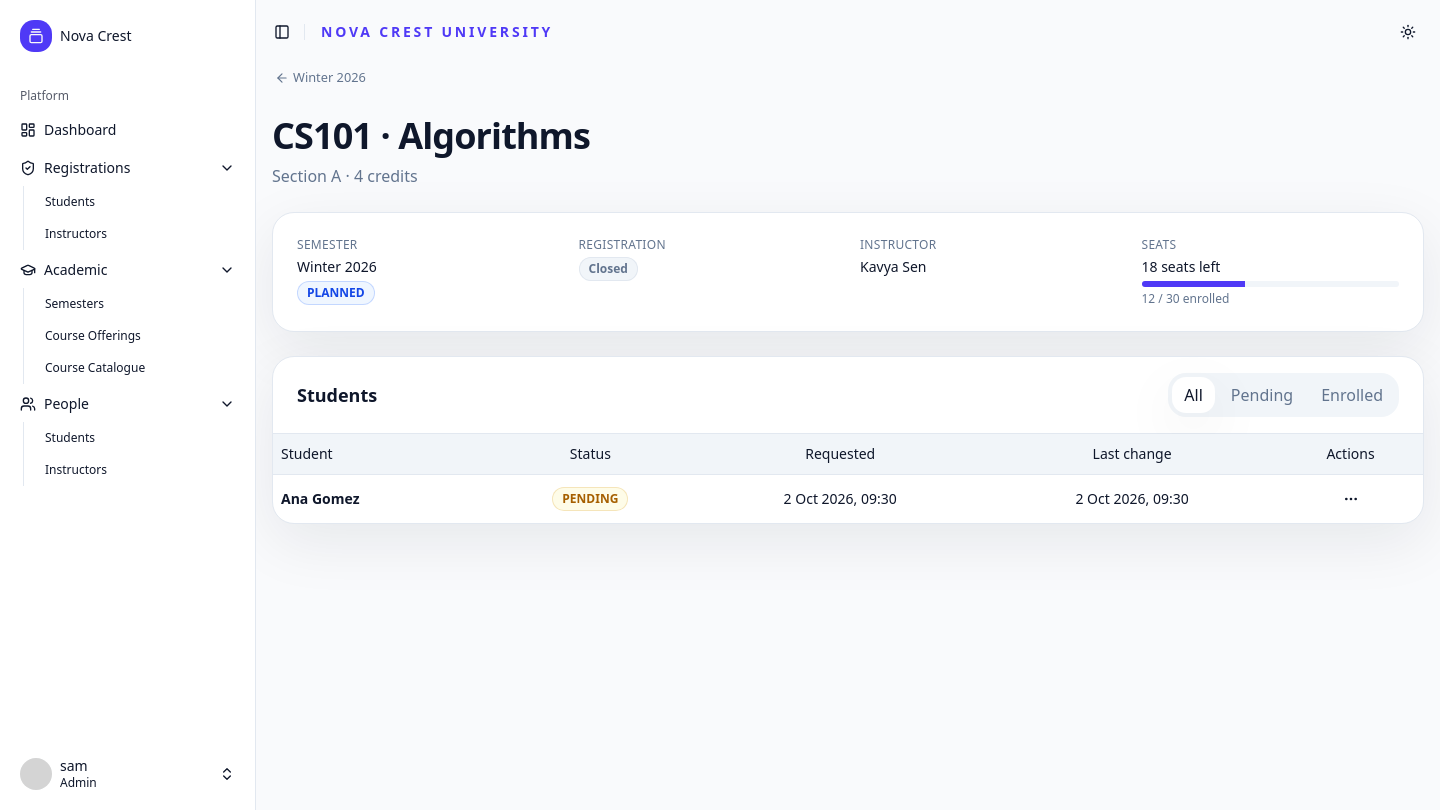
Test: OfferingDetail › asks before rejecting
Click the button named "Actions for Ana Gomez" in the row of "Ana Gomez" at {"x": 1350, "y": 498}, box [1334,482,1366,514]
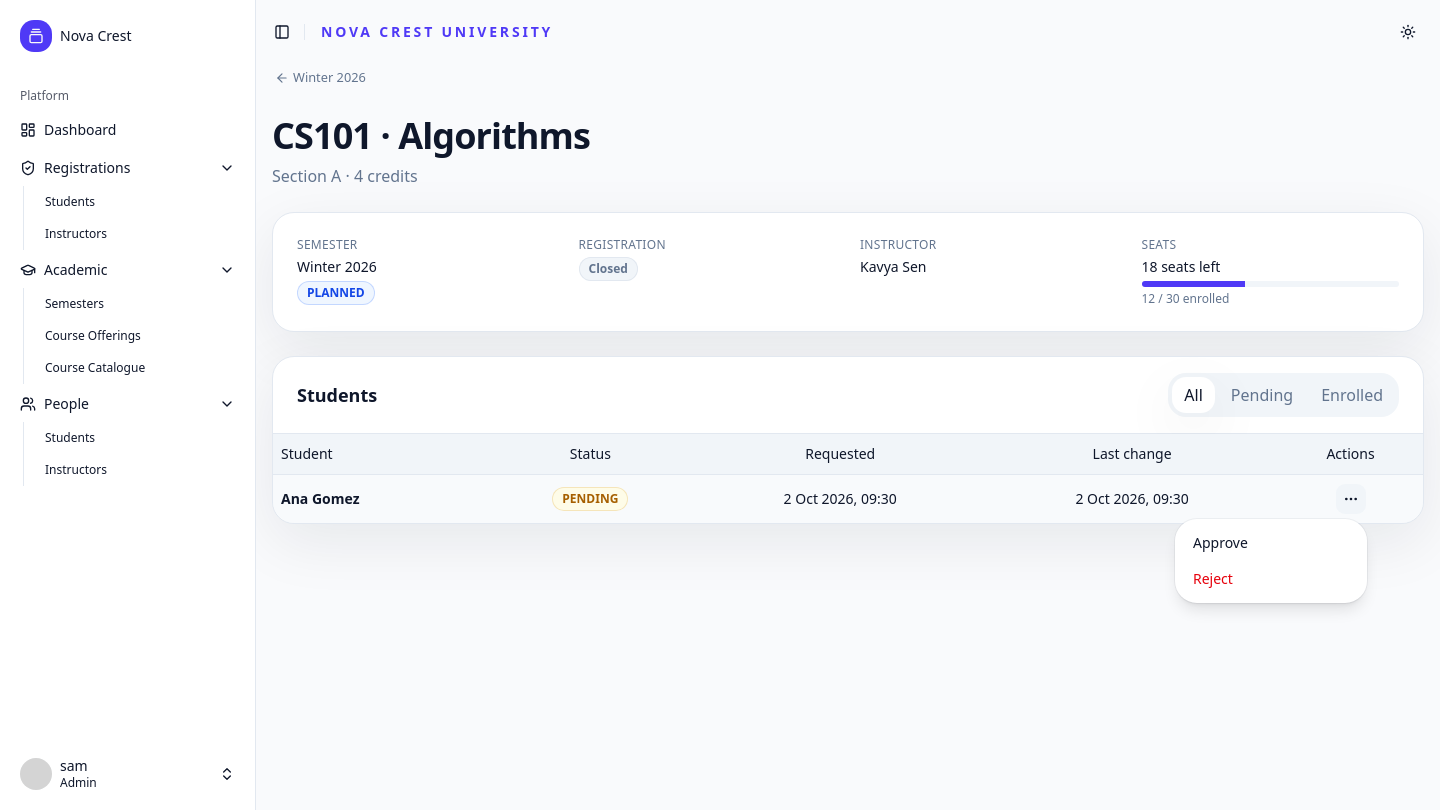
Click the menu item "Reject" at {"x": 1213, "y": 578}, box [1193,569,1233,588]
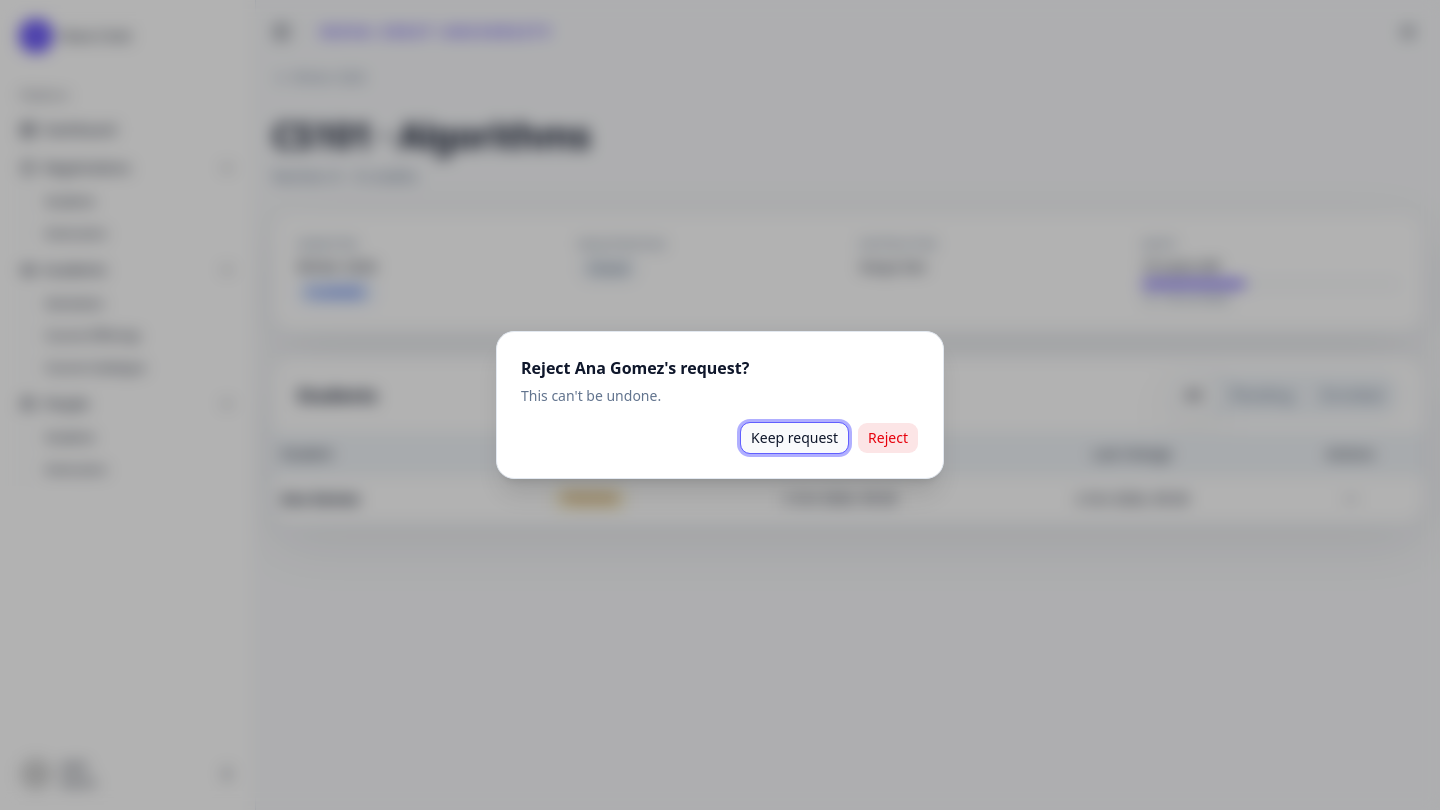
Click the button "Reject" at {"x": 888, "y": 438}, box [857,422,919,454]
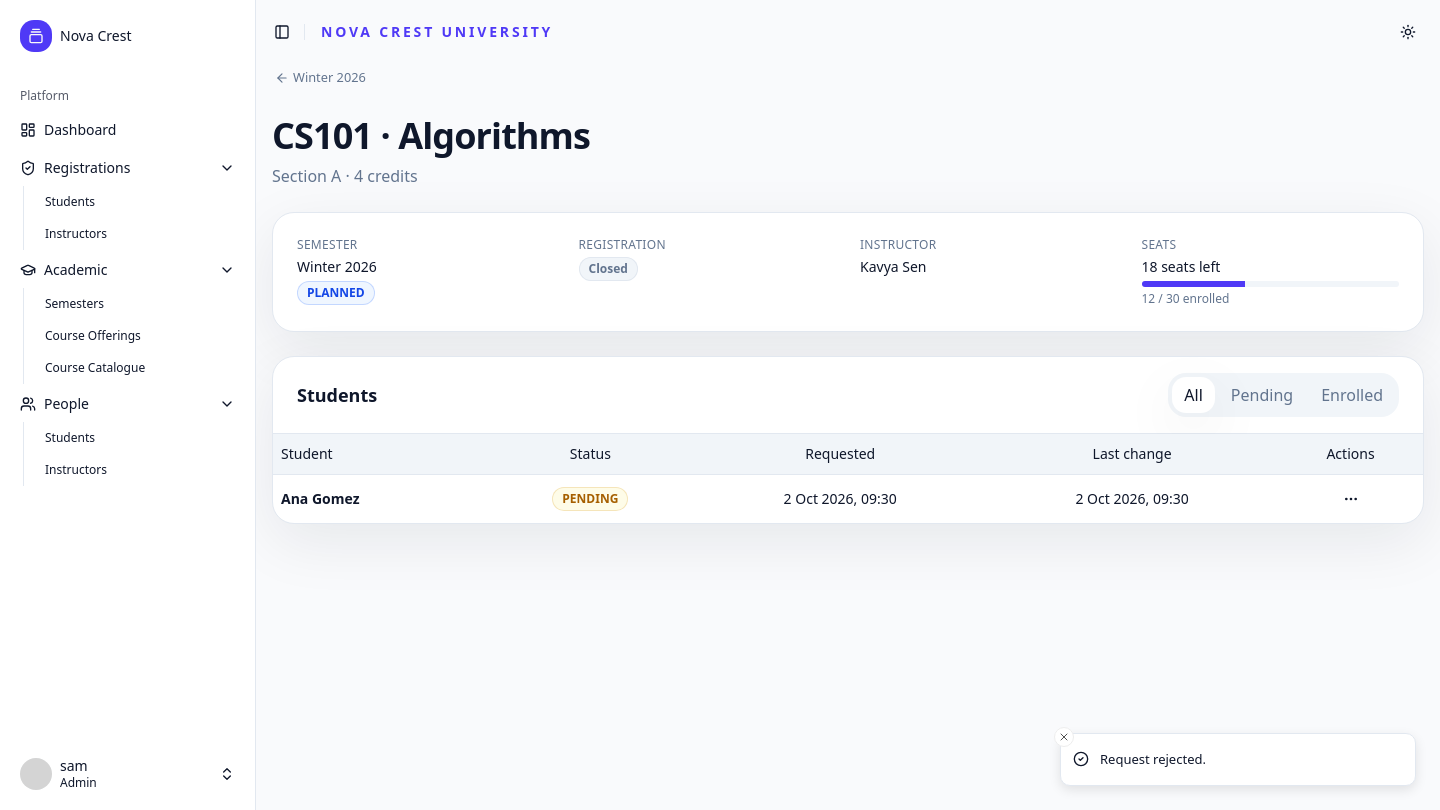
Check: the text "Request rejected." is shown, box [1100,750,1206,769]
